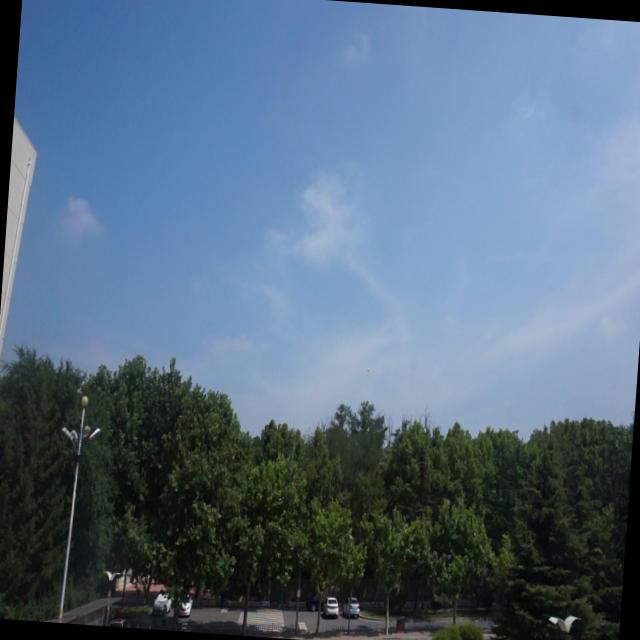drone: (363, 361, 372, 378)
